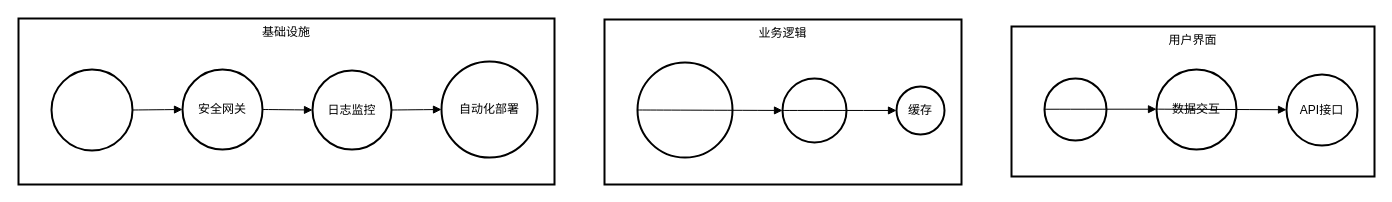
Image size: 1392x202. Some labels were removed from this diagram. Each missing label, with the box of its shape:
前端UI: (1043, 77, 1107, 141)
数据库: (781, 77, 847, 143)
服务端应用: (636, 61, 733, 158)
负载均衡: (50, 68, 133, 151)
